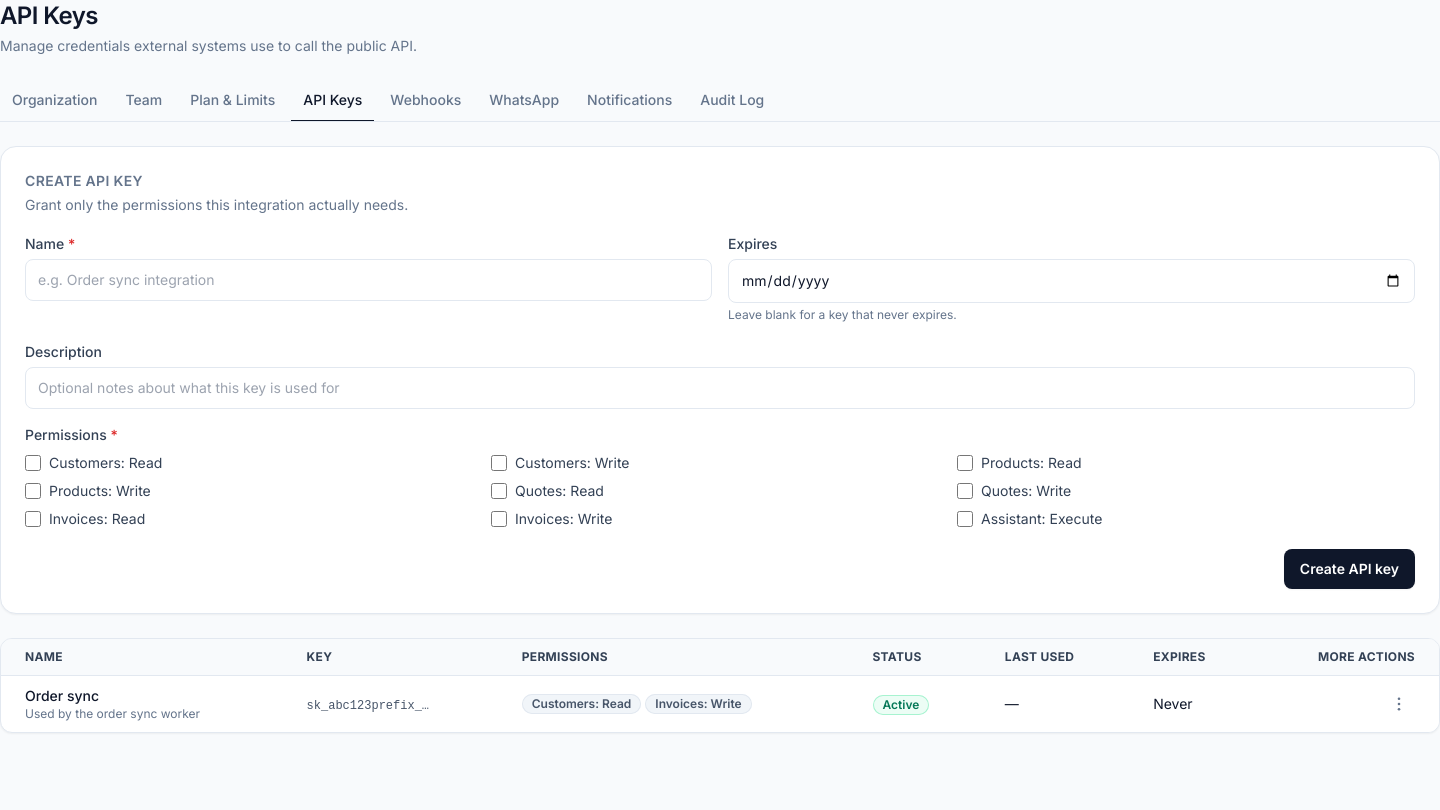
Test: ApiKeysPage › shows the plan-limit dialog when the API key quota is reached (409 plan_limit_reached)
expect the text "Order sync" is shown: met, box [25,687,99,704]
Type "Second integration" into the field labelled "Name *". click: (368, 280)
box: [25,259,712,301]
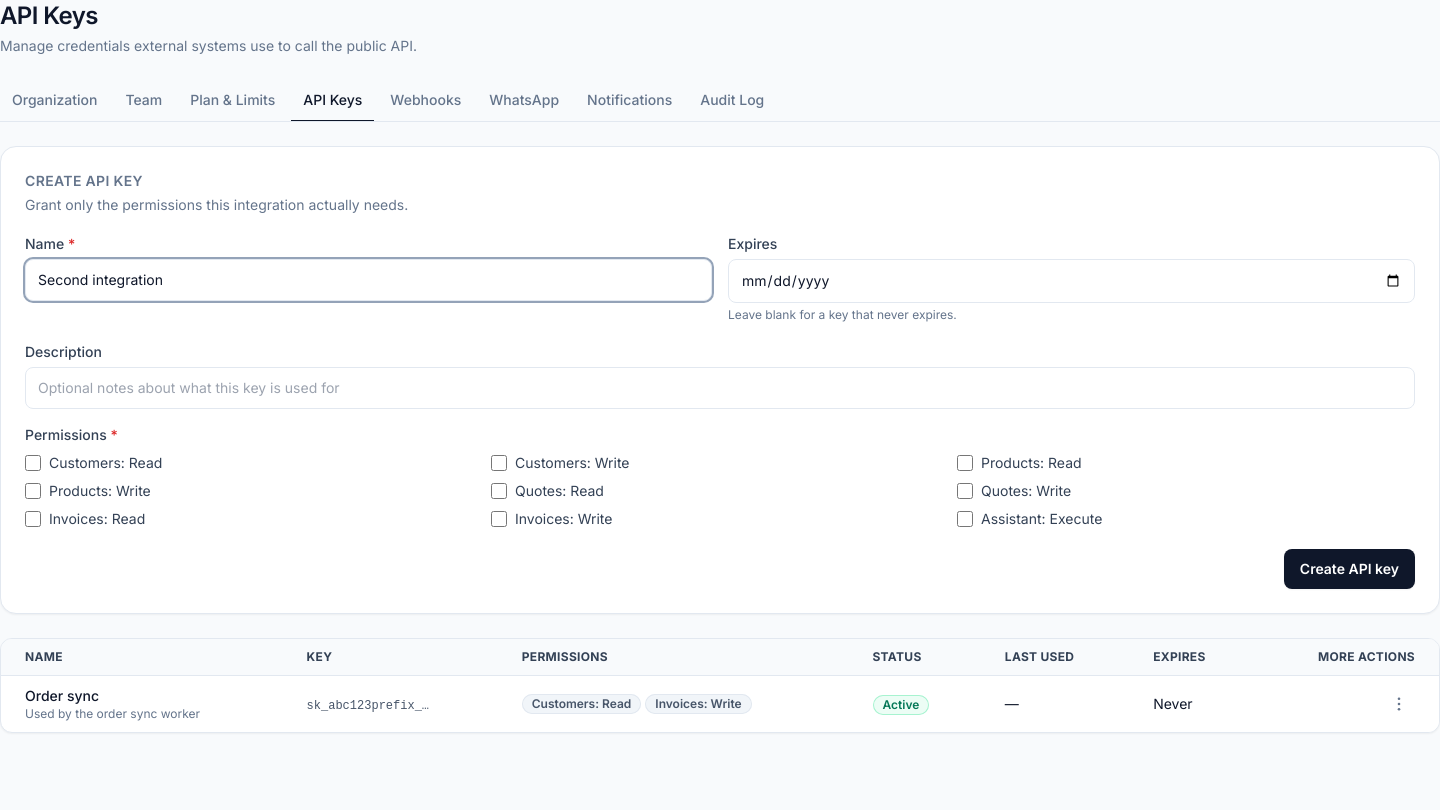
Click the checkbox labelled "Customers: Read". click: (33, 463)
box: [25,455,41,471]
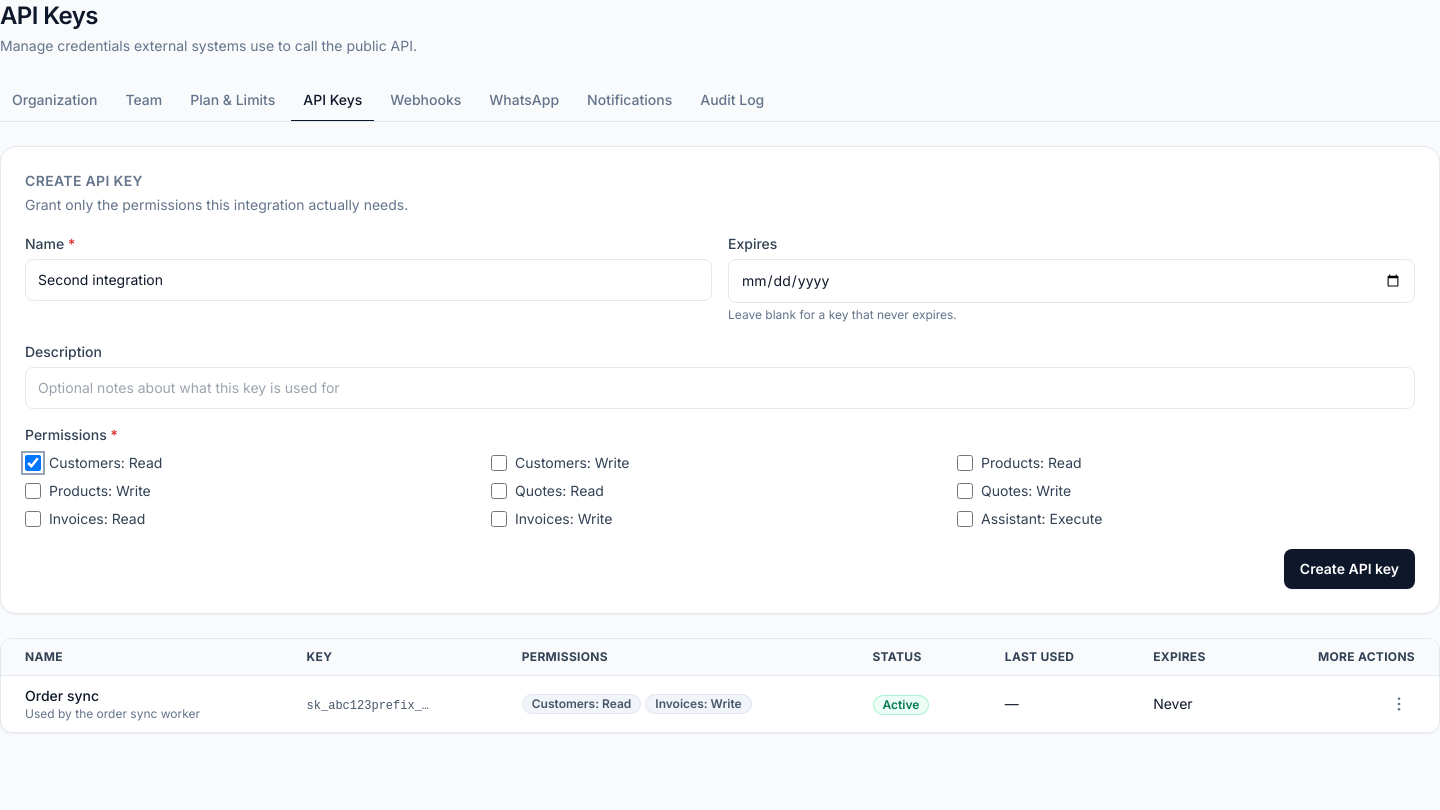
Click the button "Create API key". click: (1349, 569)
box: [1284,549,1415,589]
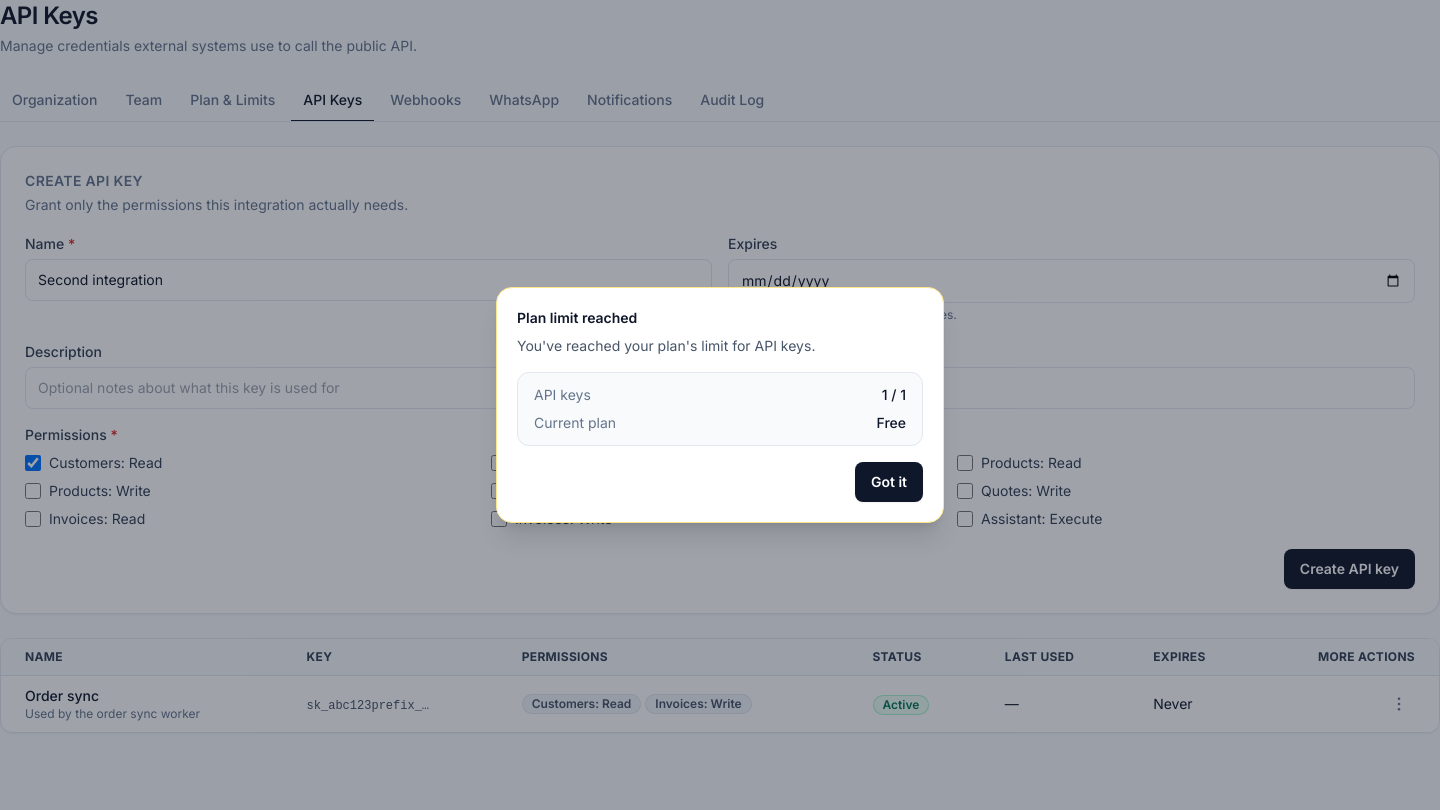
expect the dialog is shown: met, box [496,287,944,523]
expect the text "You've reached your plan's limit for API keys." is shown: met, box [517,337,815,354]
